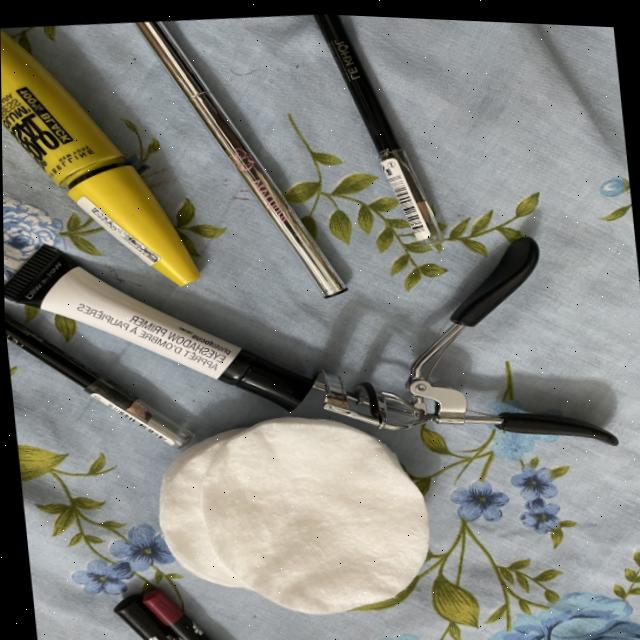eye liner: (162, 6, 454, 326), (3, 286, 197, 473), (316, 11, 455, 269)
eyelash curler: (298, 205, 640, 465)
mascara: (0, 10, 216, 318)
nail polish remover: (143, 396, 457, 640)
primer: (172, 283, 315, 427)
